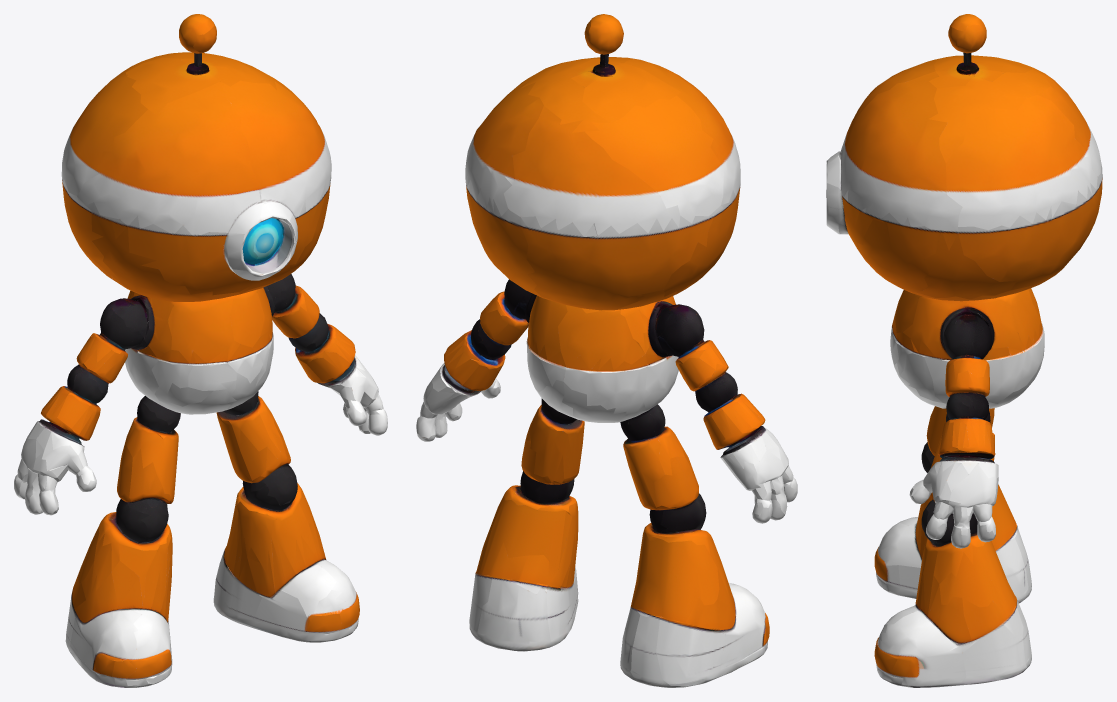
The model's file is meshy-robot.glb.
The picture shows the model from 3 angles, left to right: view 1: azimuth 30°, elevation 25°; view 2: azimuth 150°, elevation 25°; view 3: azimuth 270°, elevation 25°; orthographic projection. The views are drawn at different scales.
Size of the model in its own units: 1.13 by 1.9 by 0.7767.
1 material, 1 textured.
